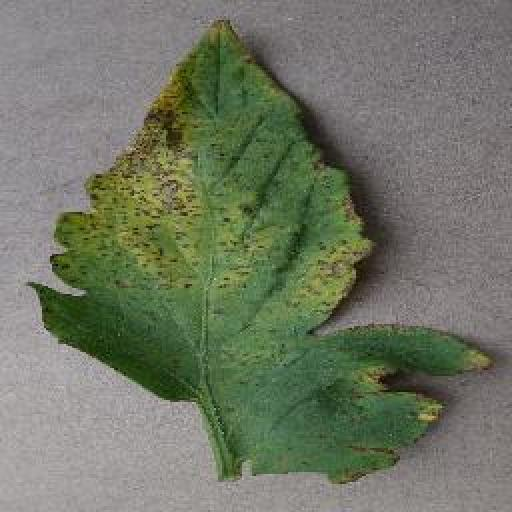Bacterial Spot: (22, 14, 502, 491)
